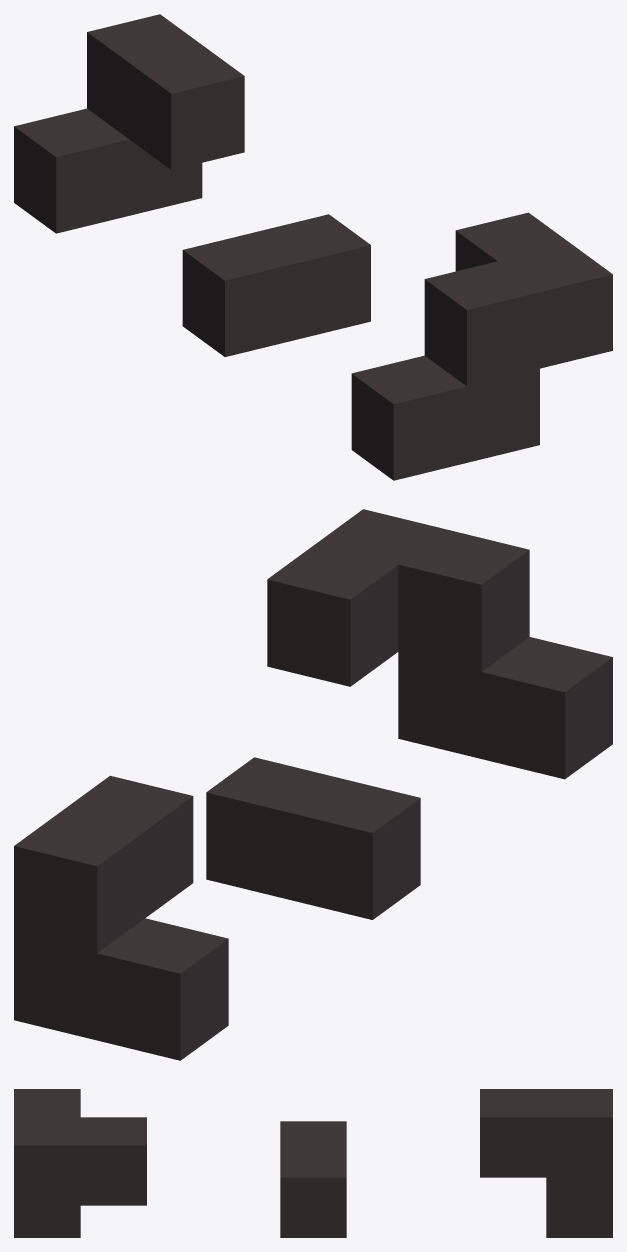
File: ladybug__leg_r.obj
3 renders of one model, top to bottom at view 1: azimuth 30°, elevation 25°; view 2: azimuth 150°, elevation 25°; view 3: azimuth 270°, elevation 25°, orthographic. The views are drawn at different scales.
Parts seen in each view (by area): view 1: ladybug__leg_r; view 2: ladybug__leg_r; view 3: ladybug__leg_r.
Boxes of the visible parts, x1,y1,x2,y2 form: ladybug__leg_r: (14, 14, 612, 480); ladybug__leg_r: (14, 509, 612, 1060); ladybug__leg_r: (14, 1089, 612, 1237).
Size of the model in its own units: 0.3 by 0.2 by 0.9.
1 material, 1 textured.
